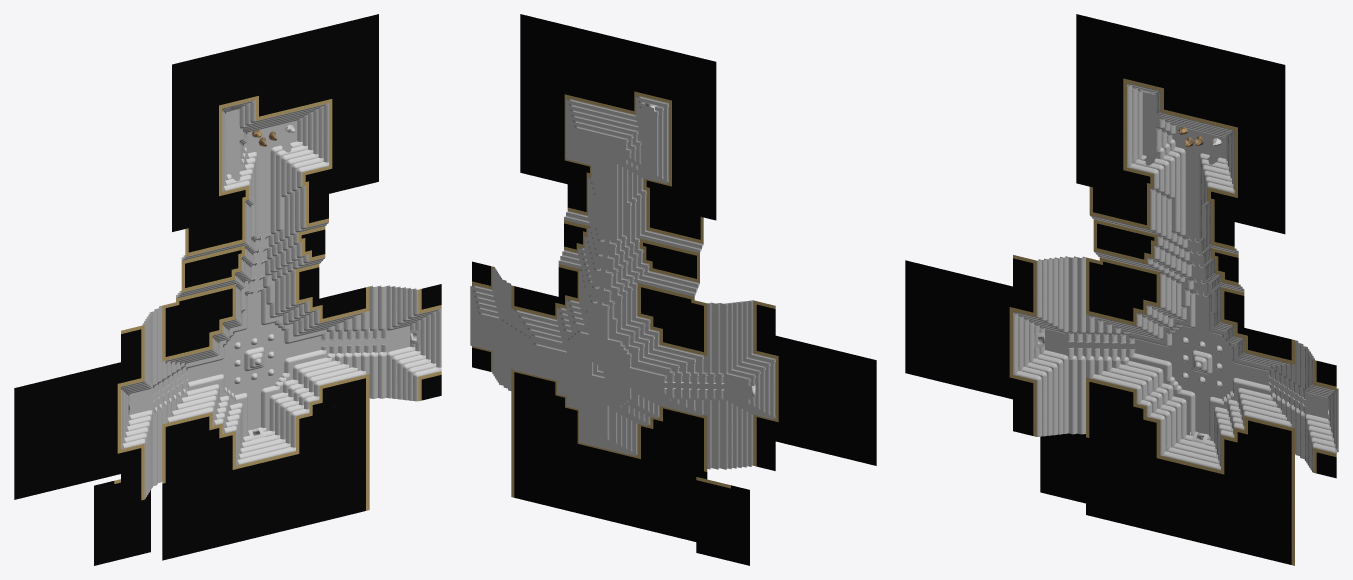
File: Subterranean-Cave-2.obj
3 renders of one model, left to right at view 1: azimuth 30°, elevation 25°; view 2: azimuth 150°, elevation 25°; view 3: azimuth 330°, elevation 25°, orthographic. The views are drawn at different scales.
Parts seen in each view (by area): view 1: map; view 2: map; view 3: map.
Part boxes in pixels (x1,y1,x2,y2): map: (14,14,441,565); map: (470,14,876,565); map: (905,14,1338,565).
Size of the model in its own units: 128 by 144 by 14.01.
